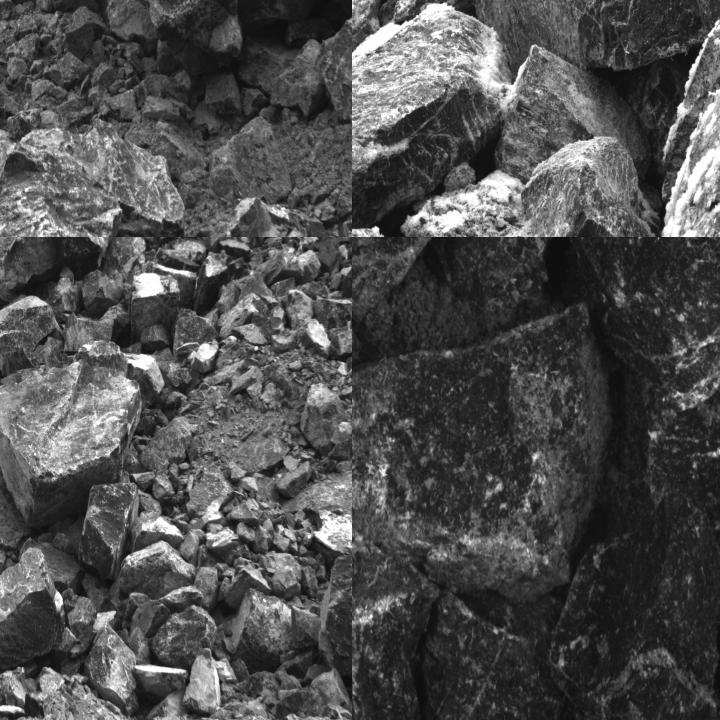stone: (352, 308, 615, 601), (549, 497, 719, 719), (352, 4, 513, 236), (620, 284, 719, 584), (547, 237, 719, 408), (0, 338, 142, 528), (359, 237, 560, 354), (27, 115, 189, 236), (464, 0, 719, 72), (426, 591, 564, 719), (352, 526, 436, 719), (520, 135, 661, 236), (0, 134, 127, 236), (650, 62, 719, 236), (0, 548, 65, 673), (231, 588, 321, 672), (207, 118, 293, 204), (0, 237, 106, 306), (79, 482, 139, 581), (108, 541, 198, 601), (318, 554, 351, 715), (83, 620, 139, 713), (0, 294, 56, 383), (276, 466, 351, 530), (268, 40, 326, 120), (319, 10, 351, 141), (300, 381, 351, 463), (128, 272, 184, 346), (151, 605, 216, 666), (63, 304, 130, 357), (19, 538, 82, 594), (138, 416, 195, 474), (170, 308, 226, 362), (103, 0, 159, 53), (0, 469, 32, 551), (182, 649, 221, 715), (309, 508, 351, 563), (186, 471, 234, 518), (63, 592, 96, 657), (101, 237, 148, 282), (232, 200, 289, 236), (82, 270, 125, 317), (204, 72, 244, 117), (44, 52, 90, 88), (64, 7, 94, 57), (275, 461, 311, 498), (5, 33, 39, 69), (123, 593, 150, 629), (47, 0, 105, 15), (156, 39, 180, 73), (328, 326, 351, 360)
